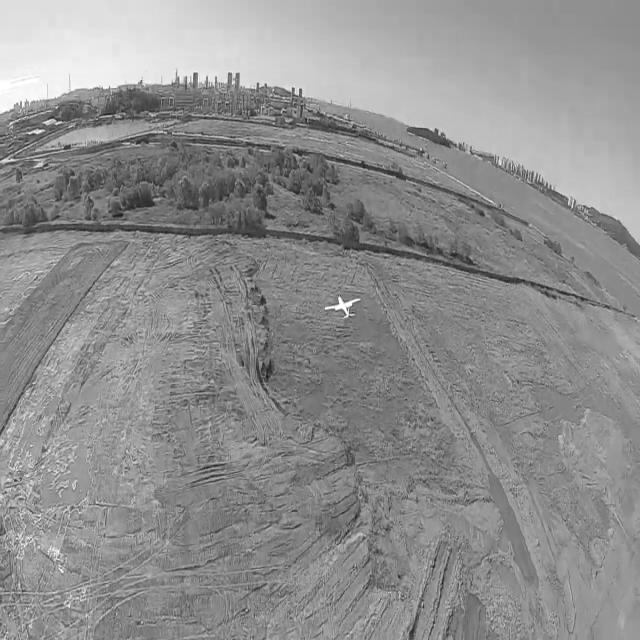iha: (322, 295, 363, 320)
